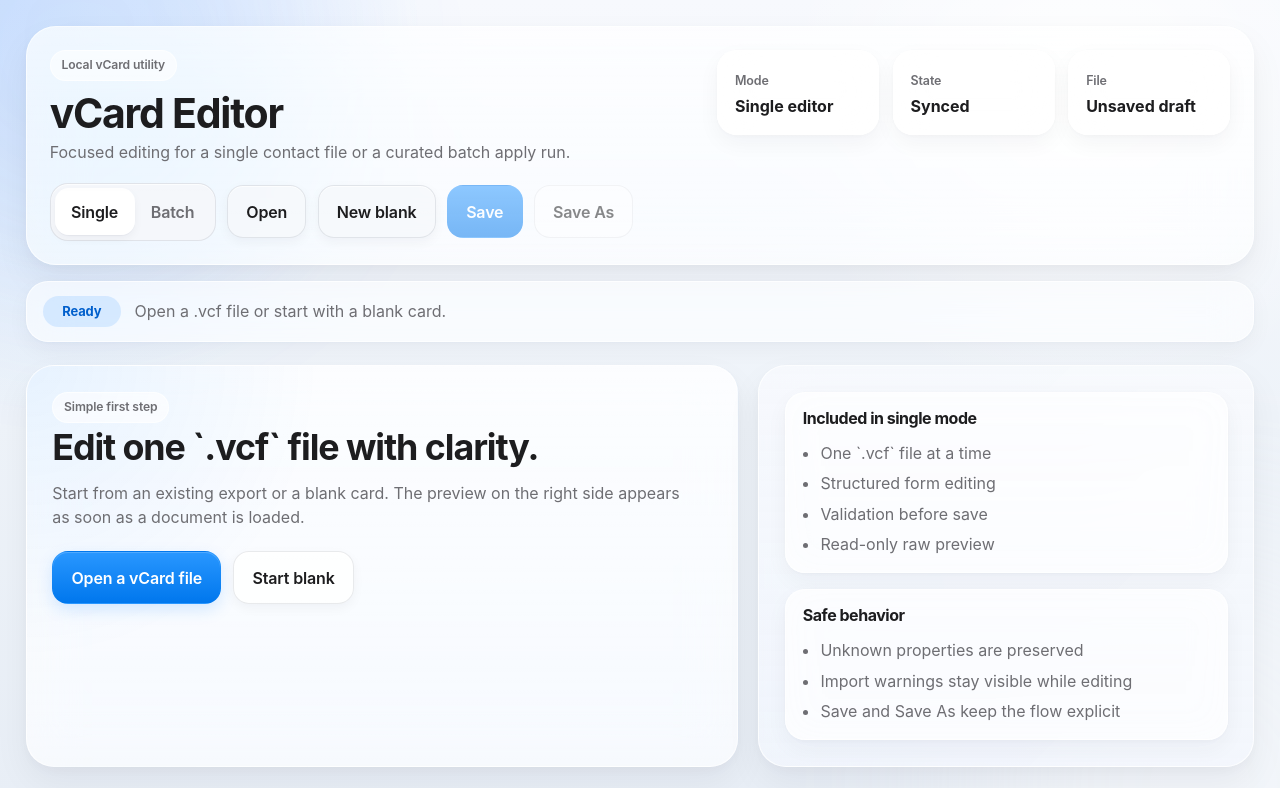
Test case: App › imports a folder of vCards in batch mode
Click the tab "Batch" at (173,212), box [134,188,211,235]
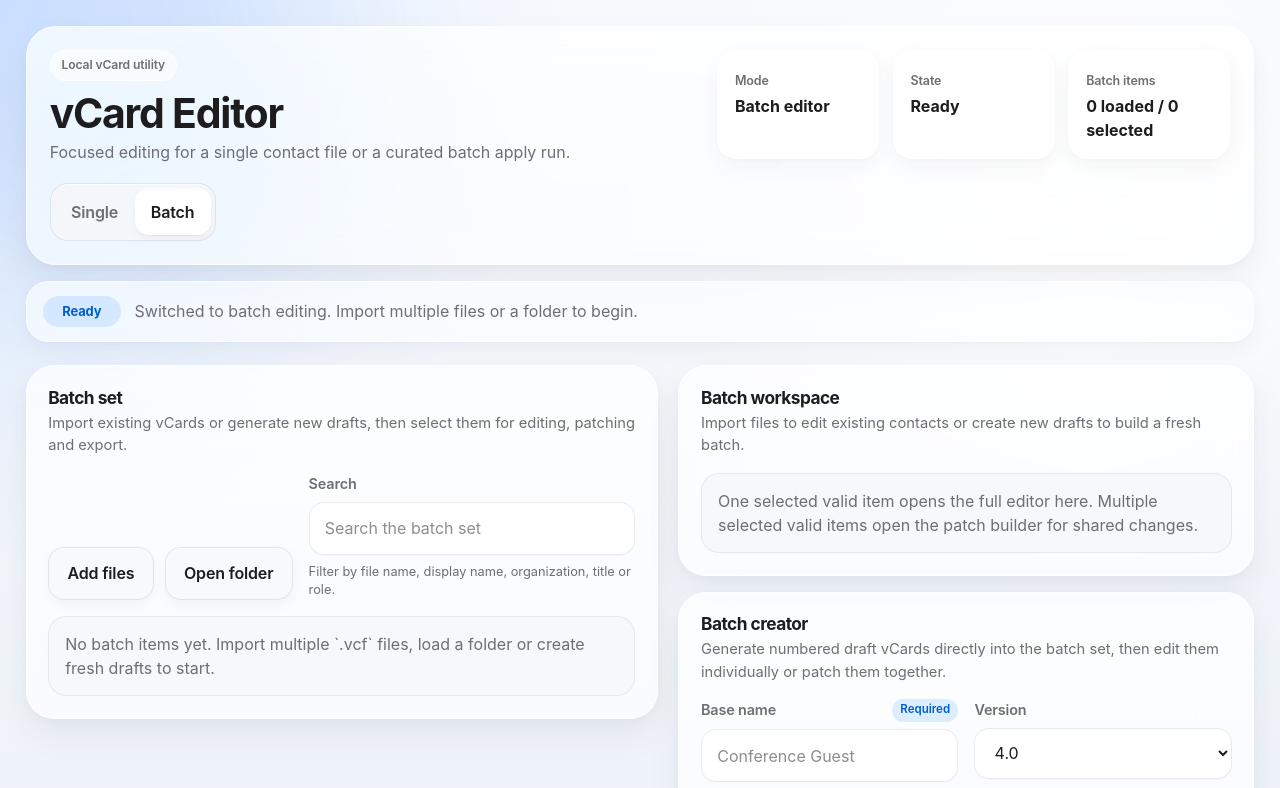
Click the button "Open folder" at (229,573), box [165,547,293,600]
(page scrolled)
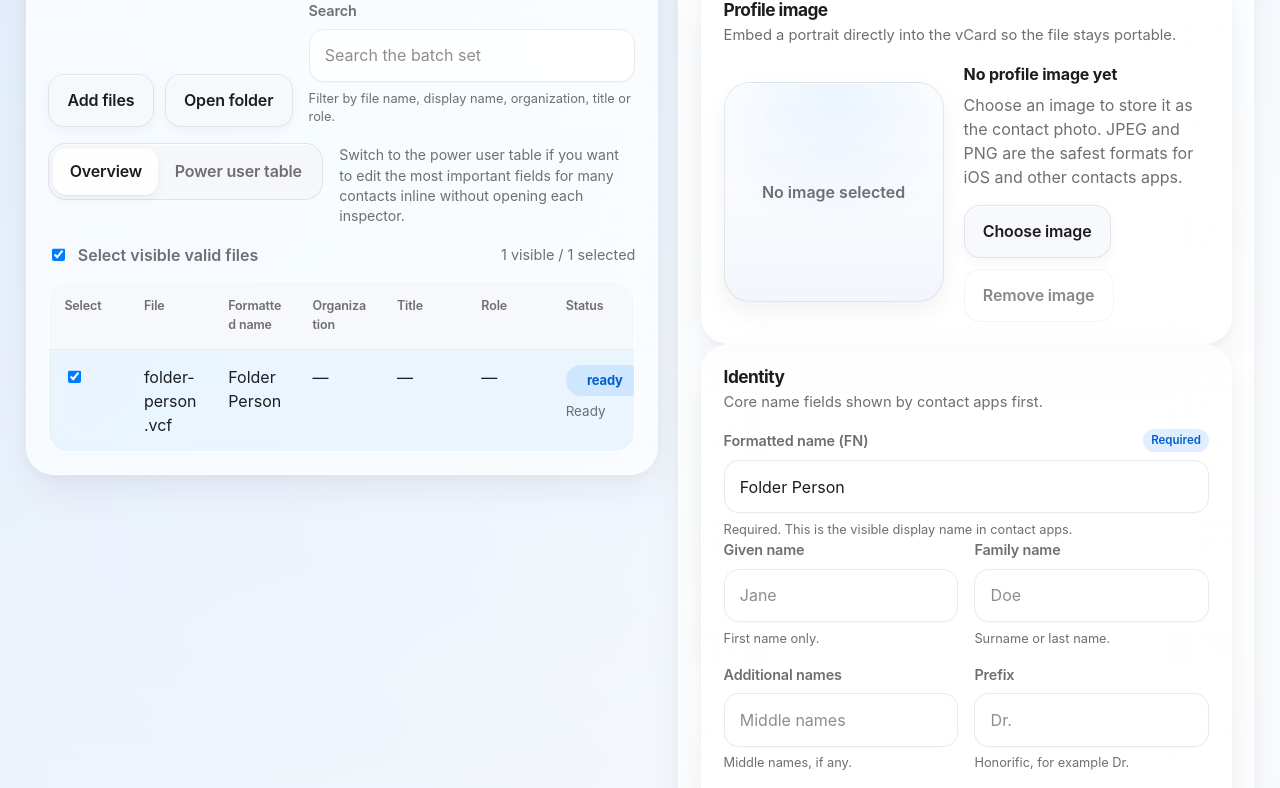
Expected: the text "Folder Person" is shown, [213,350,297,452]
